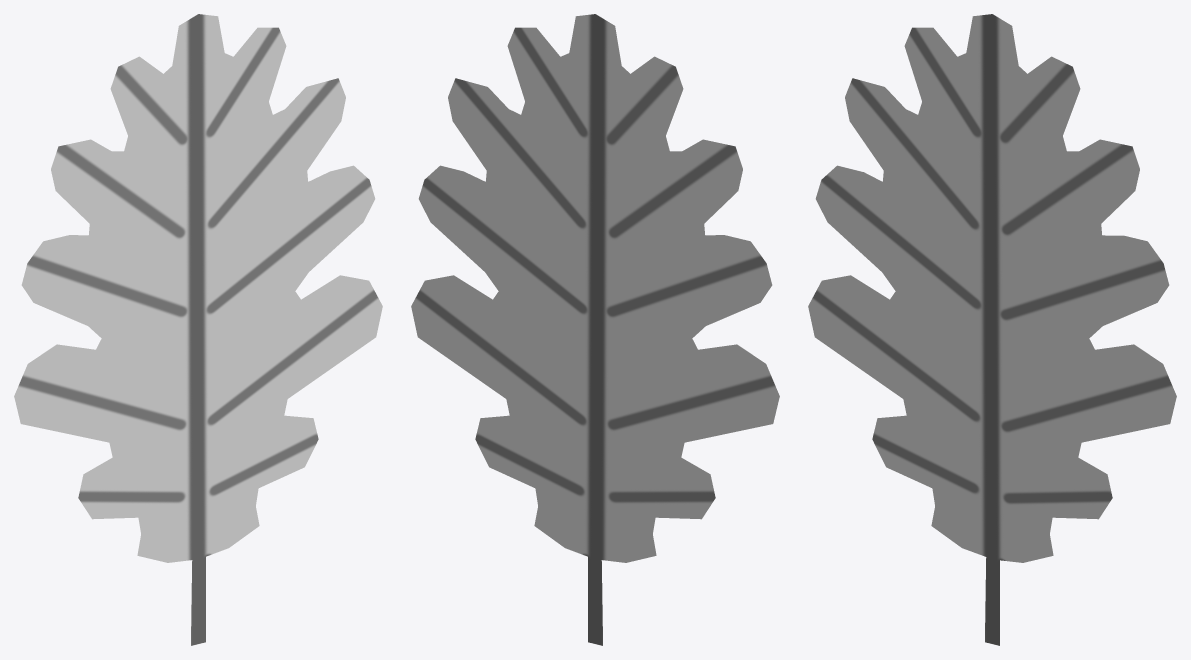
The model's file is Leaf3.gltf.
3 renders of one model, left to right at view 1: azimuth 30°, elevation 25°; view 2: azimuth 150°, elevation 25°; view 3: azimuth 330°, elevation 25°, orthographic.
Parts seen in each view (by area): view 1: Leaf3; view 2: Leaf3; view 3: Leaf3.
Part boxes in pixels (bbox=[...]): Leaf3: bbox=[14, 14, 382, 645]; Leaf3: bbox=[411, 14, 779, 645]; Leaf3: bbox=[808, 14, 1176, 645].
Size of the model in its own units: 0.1842 by 0.3008 by 7.64e-09.
1 material, 1 textured.
